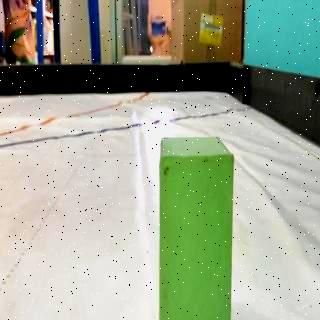greenbox: (160, 135, 234, 320)
